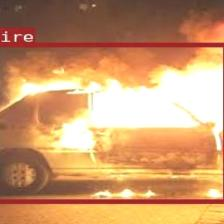fire: (0, 42, 224, 202)
